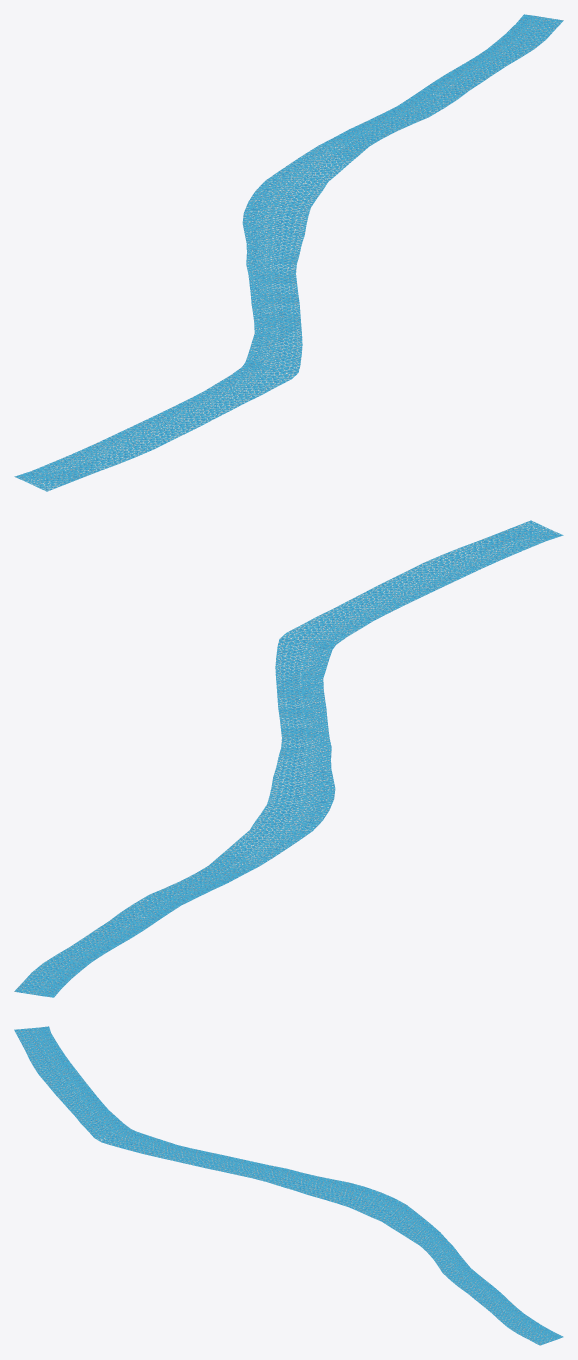
3 views of the same model, one above another, from view 1: azimuth 30°, elevation 25°; view 2: azimuth 210°, elevation 25°; view 3: azimuth 270°, elevation 25° (orthographic). The views are drawn at different scales.
Parts seen in each view (by area): view 1: River_Mesh.002, River_Mesh_Upper.002; view 2: River_Mesh.002, River_Mesh_Upper.002; view 3: River_Mesh.002, River_Mesh_Upper.002.
Boxes of the visible parts, bbox=[...] form: River_Mesh.002: bbox=[14, 14, 563, 491]; River_Mesh_Upper.002: bbox=[15, 15, 562, 490]; River_Mesh.002: bbox=[14, 520, 563, 997]; River_Mesh_Upper.002: bbox=[14, 521, 561, 996]; River_Mesh.002: bbox=[14, 1026, 563, 1345]; River_Mesh_Upper.002: bbox=[16, 1026, 561, 1345].
Bounding box in the file's own units: 382 × 0.0809 × 278.
2 materials, 2 textured.
